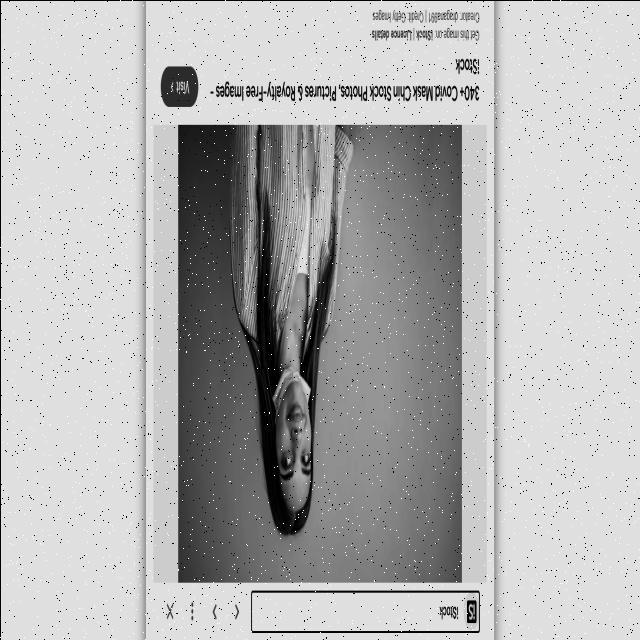face_no_mask: (274, 397, 314, 511)
